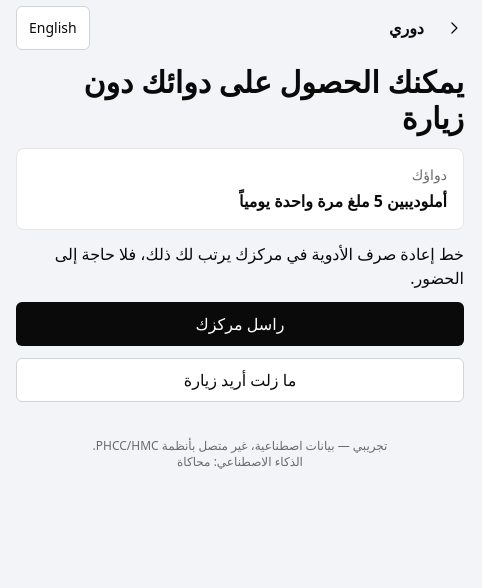
Test case: S07 refill › shows a failure in place
What coordinates should you click on to do the following:
click the button with test id "refill-visit"
I would click on:
 (240, 380)
Its box is [16,358,464,402].
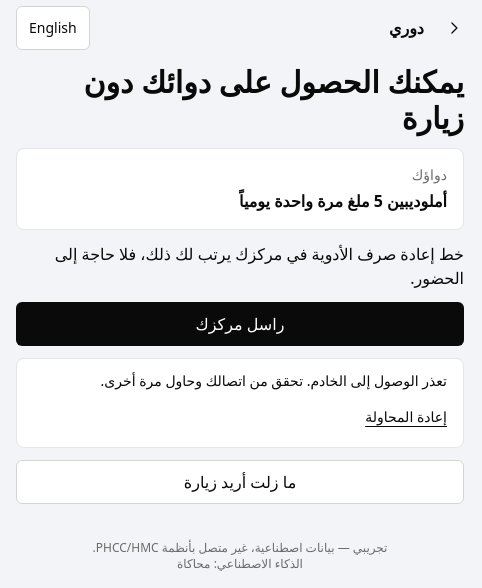
Expected: the message shows "تعذر الوصول", [101,371,447,390]
